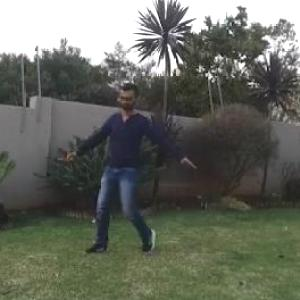land: (79, 92, 188, 231)
